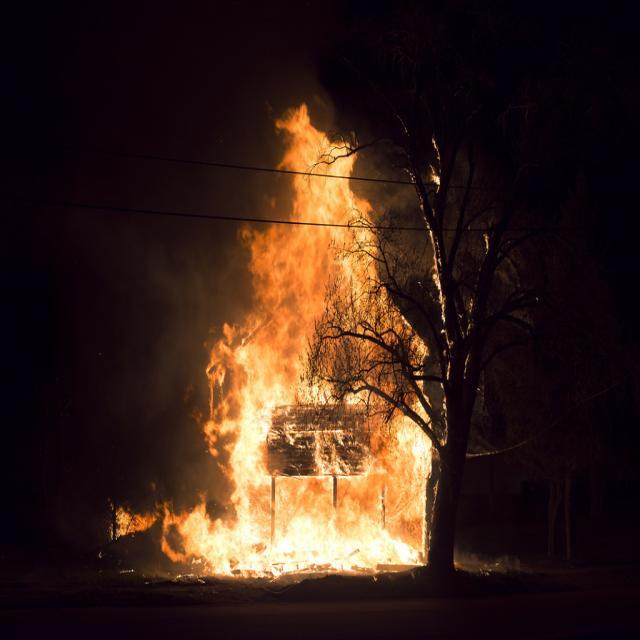Fire: (244, 520, 397, 564), (277, 244, 325, 332), (308, 146, 349, 223), (246, 396, 260, 494)
